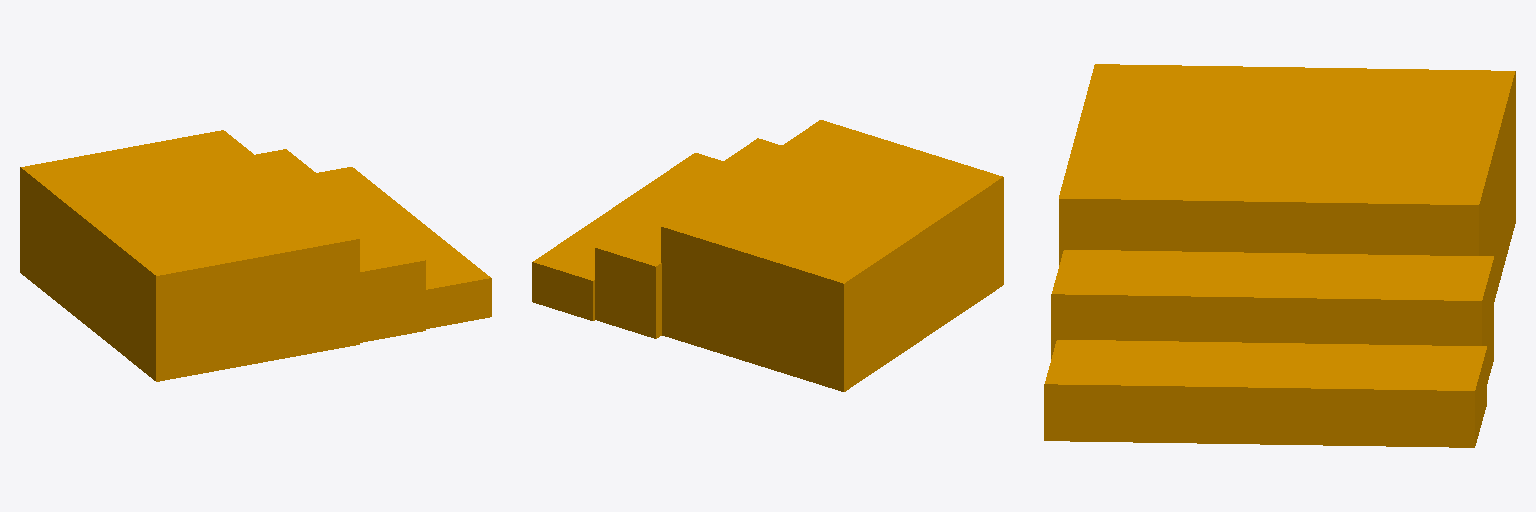
The robot description file, URDF, robot "multi_boxes_combined":
<?xml version="1.0"?>
<robot name="multi_boxes_combined">
  <link name="multi_boxes_combined_link">
    <visual>
      <origin rpy="0 0 0" xyz="0 0 0"/>
      <geometry>
        <mesh filename="multi_boxes.obj" scale="1 1 1"/>
      </geometry>
    </visual>
    <collision>
      <origin rpy="0 0 0" xyz="0 0 0"/>
      <geometry>
        <mesh filename="multi_boxes.obj" scale="1 1 1"/>
      </geometry>
    </collision>
    <inertial>
      <mass value="100.0"/>
      <origin rpy="0 0 0" xyz="0 0 0"/>
      <inertia ixx="10.0" ixy="0.0" ixz="0.0" iyy="10.0" iyz="0.0" izz="10.0"/>
    </inertial>
  </link>
</robot>

--- What the picture shows (computed from the rendered views, not written in the file) ---
Views: 3 orthographic renders of the robot side by side, from view 1: azimuth 30°, elevation 25°; view 2: azimuth 150°, elevation 25°; view 3: azimuth 270°, elevation 25°.
Robot: multi_boxes_combined — 1 links, 0 joints (none); root link multi_boxes_combined_link; default pose: every joint at zero.
Visible links, largest first — view 1: multi_boxes_combined_link; view 2: multi_boxes_combined_link; view 3: multi_boxes_combined_link.
Boxes of the visible links, bbox=[...] form: multi_boxes_combined_link: bbox=[20, 130, 491, 381]; multi_boxes_combined_link: bbox=[532, 120, 1003, 391]; multi_boxes_combined_link: bbox=[1044, 64, 1515, 447].
Size in the robot's own frame: 1.7 by 1.47 by 0.5267 metres.
Meshes: 1 distinct files referenced, 1 mesh visuals loaded (1 OBJ).
